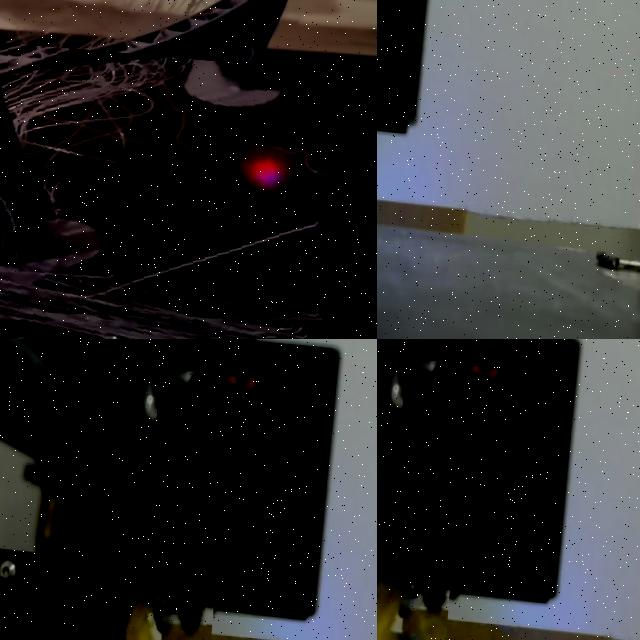spaghetti: (0, 22, 343, 339), (90, 590, 214, 640), (377, 581, 405, 640)
